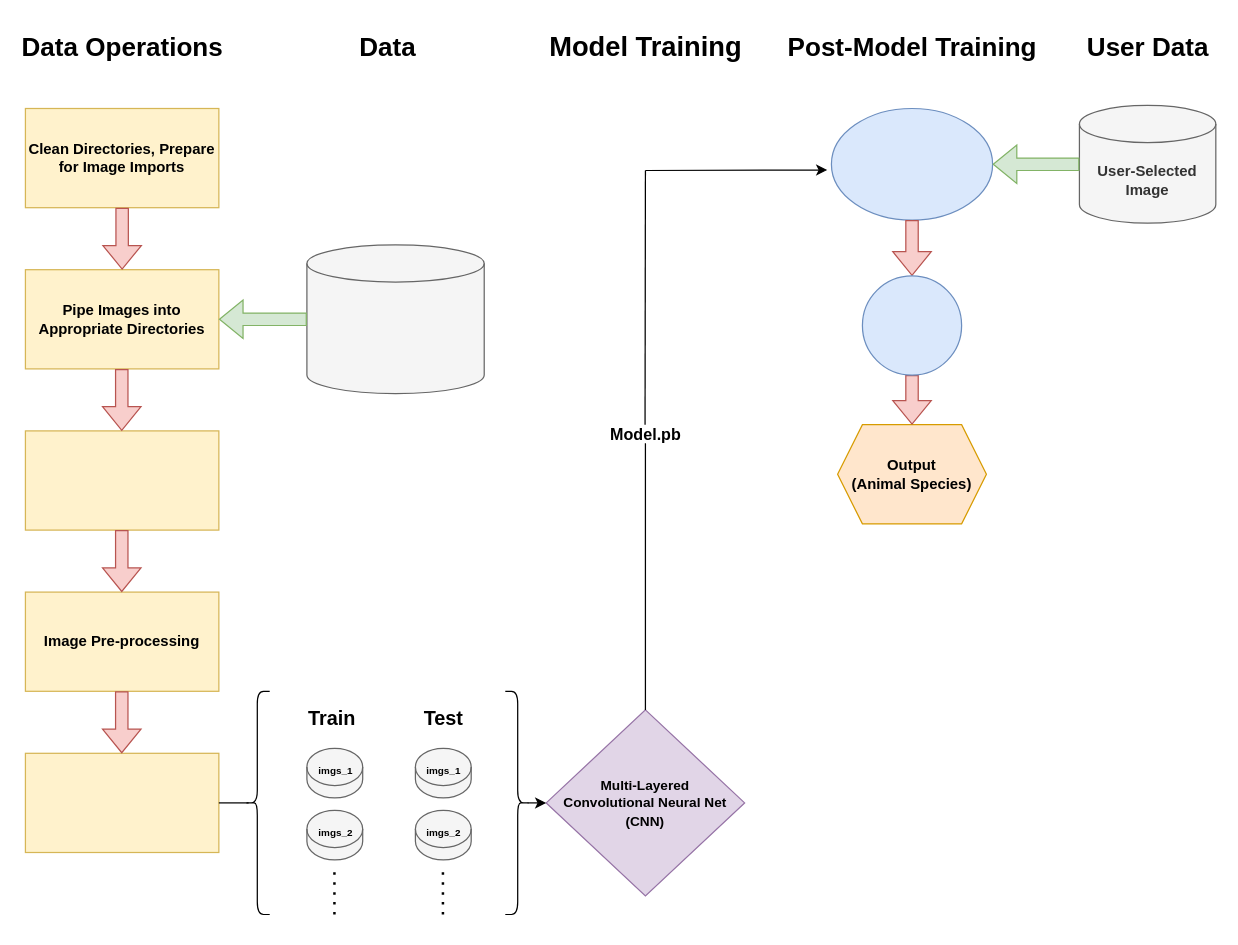
The diagram is 1238 pixels wide and 945 high, and some of its shapes have lost their labels. Each missing label, with the centre of its shape:
Dataset Generation (Training & Testing): (x=121, y=802)
Image Source(s) (Sorted by animal species): (x=395, y=319)
Model: (x=911, y=163)
Prediction (Number): (x=911, y=325)
Scan Directories, Remove any Corrupted Images: (x=121, y=480)
